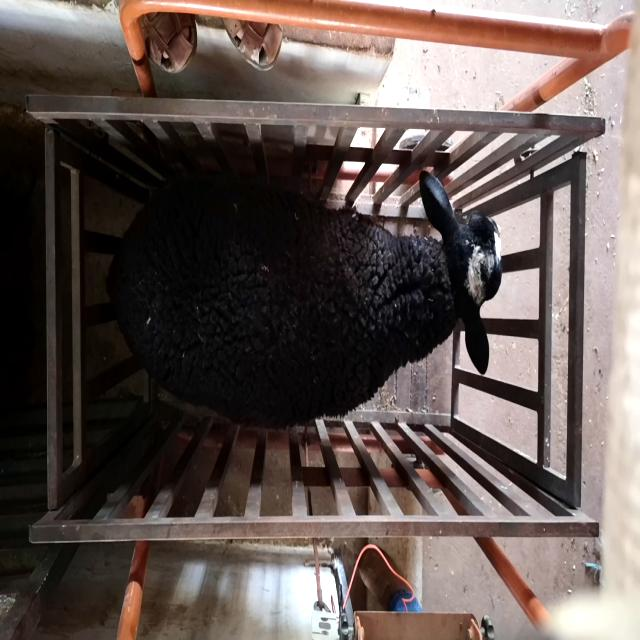sheep: (106, 170, 502, 430)
